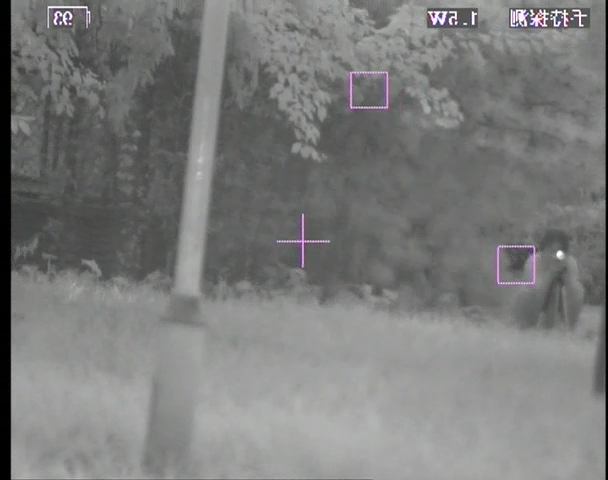my: (555, 248, 566, 262)
